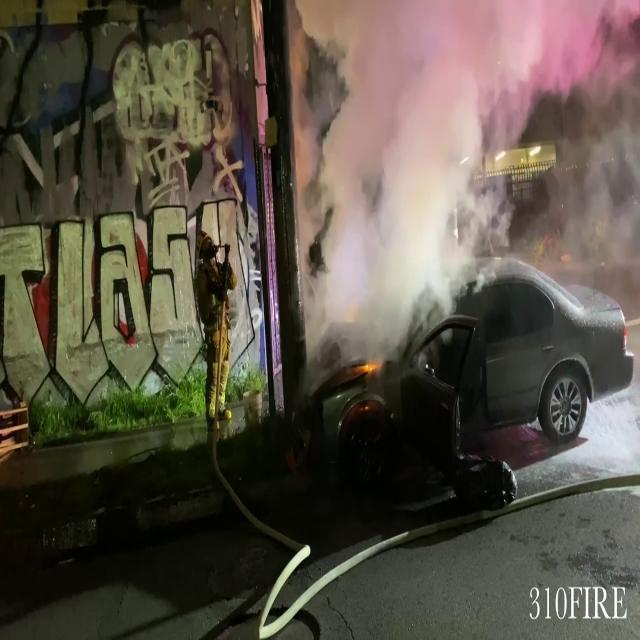Smoke: (299, 0, 640, 348), (299, 0, 526, 355)
